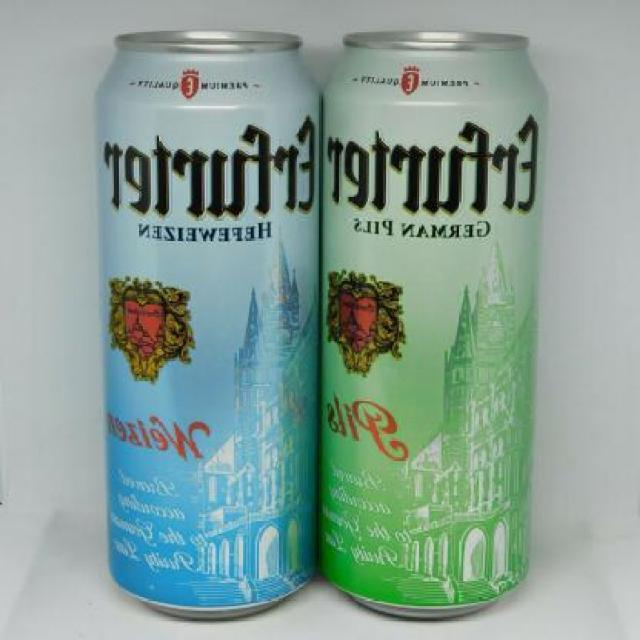can: (315, 14, 560, 618), (83, 12, 319, 623)
